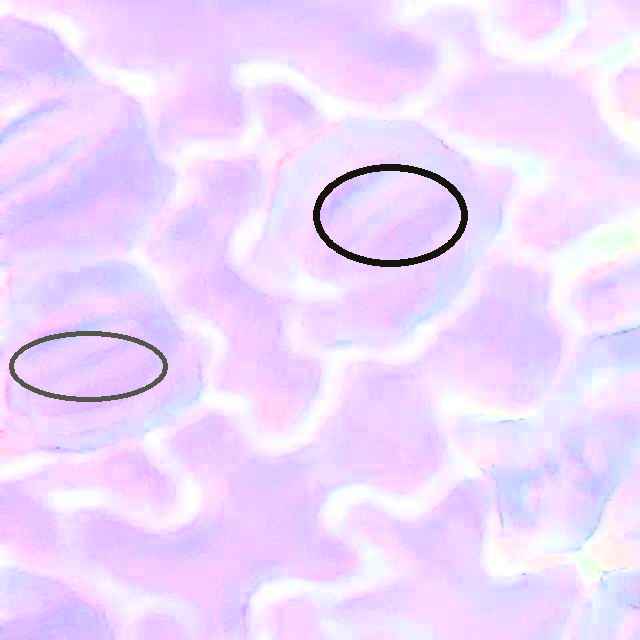open: (312, 163, 468, 268), (8, 330, 168, 402)
